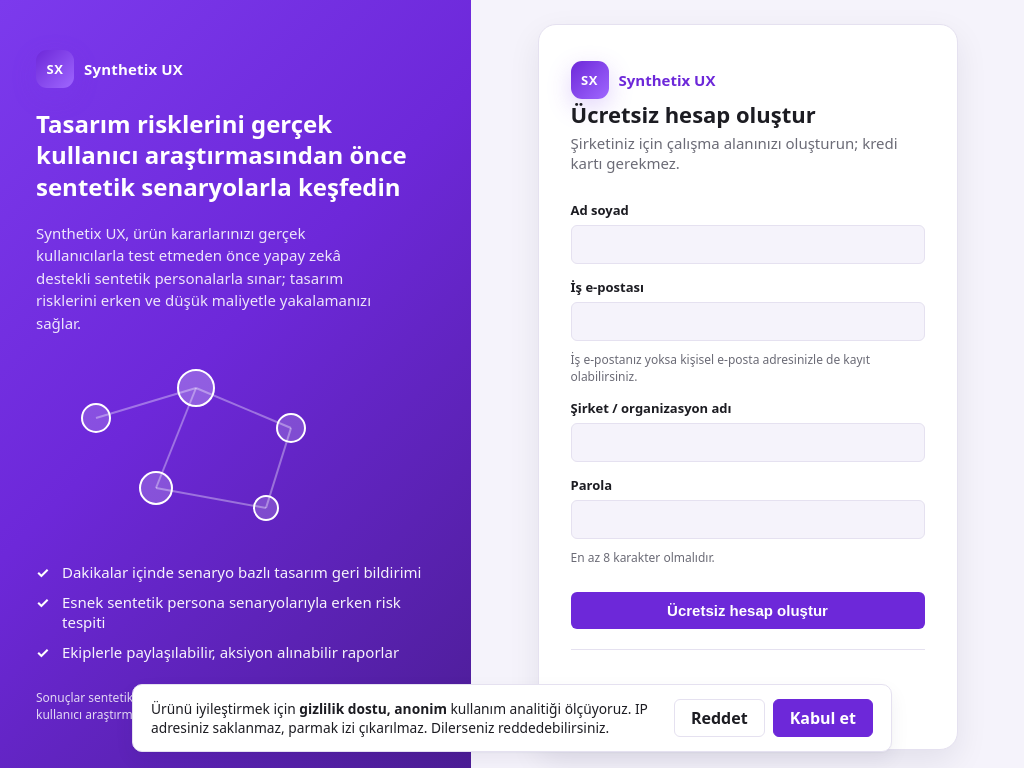
Test: Kimlik dogrulama route guard ve akislari › basarili kayit sonrasi korumali sayfaya (Genel Bakis) yonlendirir
Check: the heading "Ücretsiz hesap oluştur" is shown, box [570,99,816,129]
Type "Test Org" into the field labelled "Şirket / organizasyon adı" at (748, 442), box [570,423,924,462]
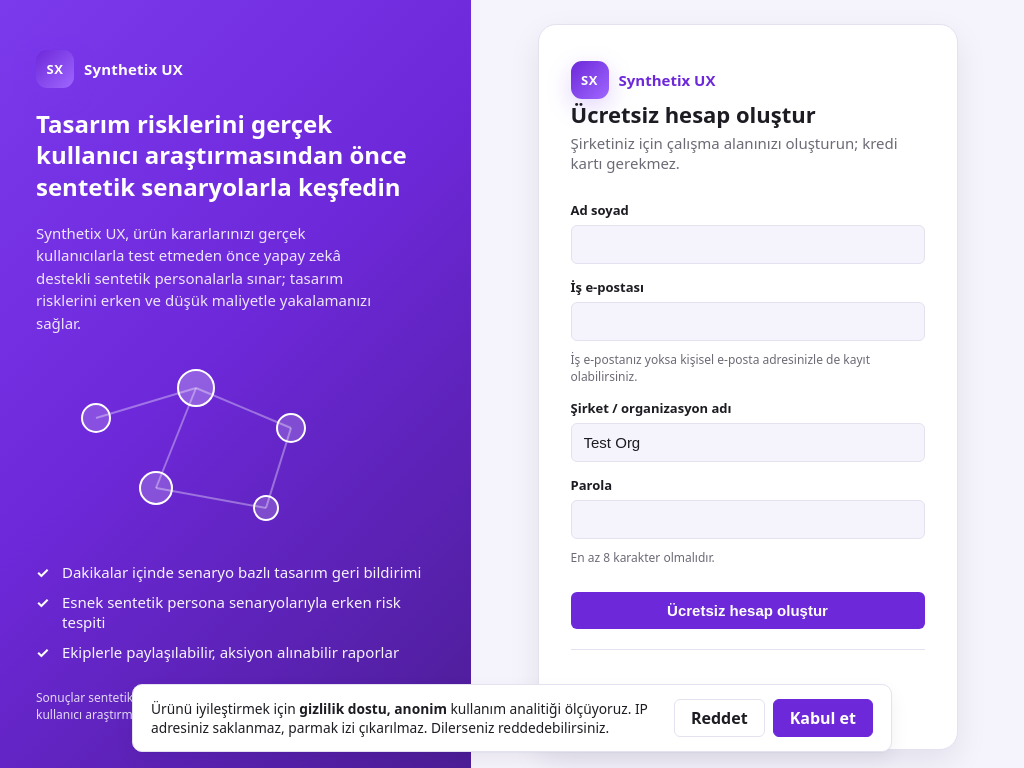
Type "Test User" into the field labelled "Ad soyad" at (748, 244), box [570,225,924,264]
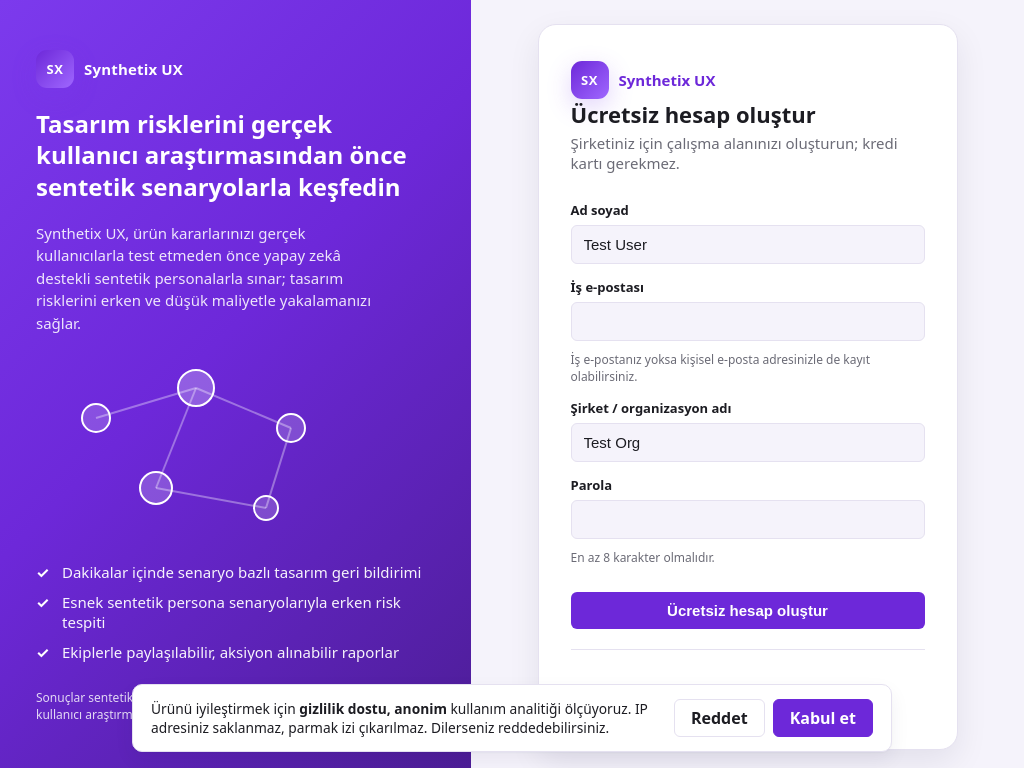
Type "user@example.com" into the field labelled "İş e-postası" at (748, 322), box [570,302,924,341]
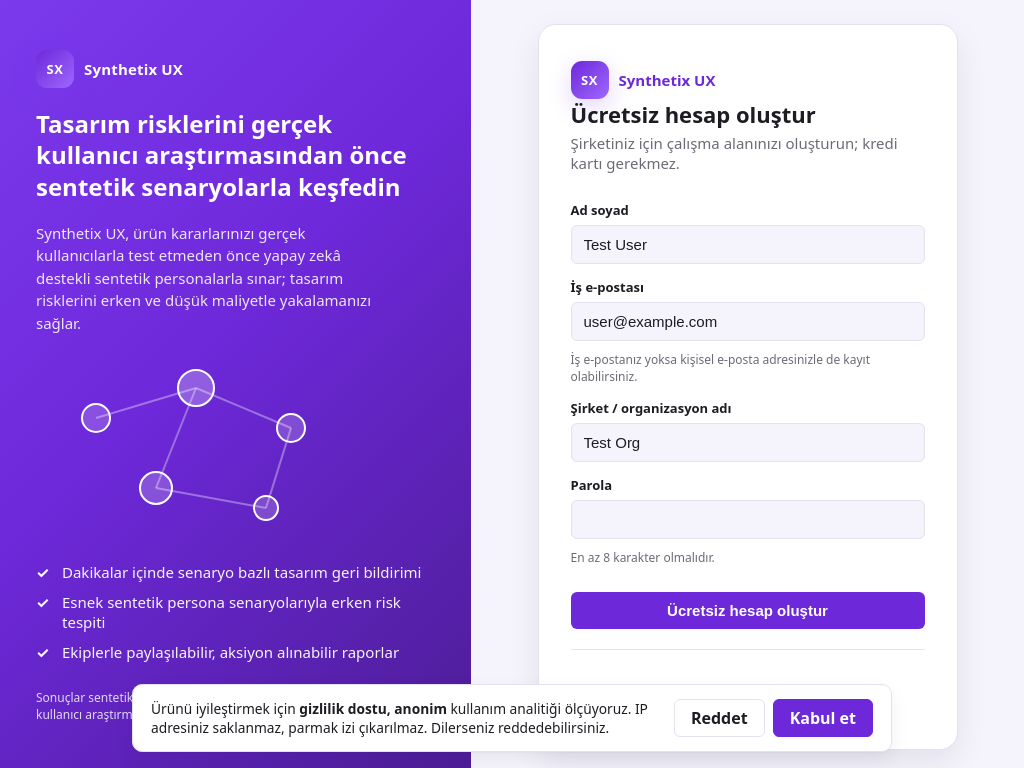
Type "CorrectHorse123!" into the password field labelled "Parola" at (748, 520), box [570,500,924,539]
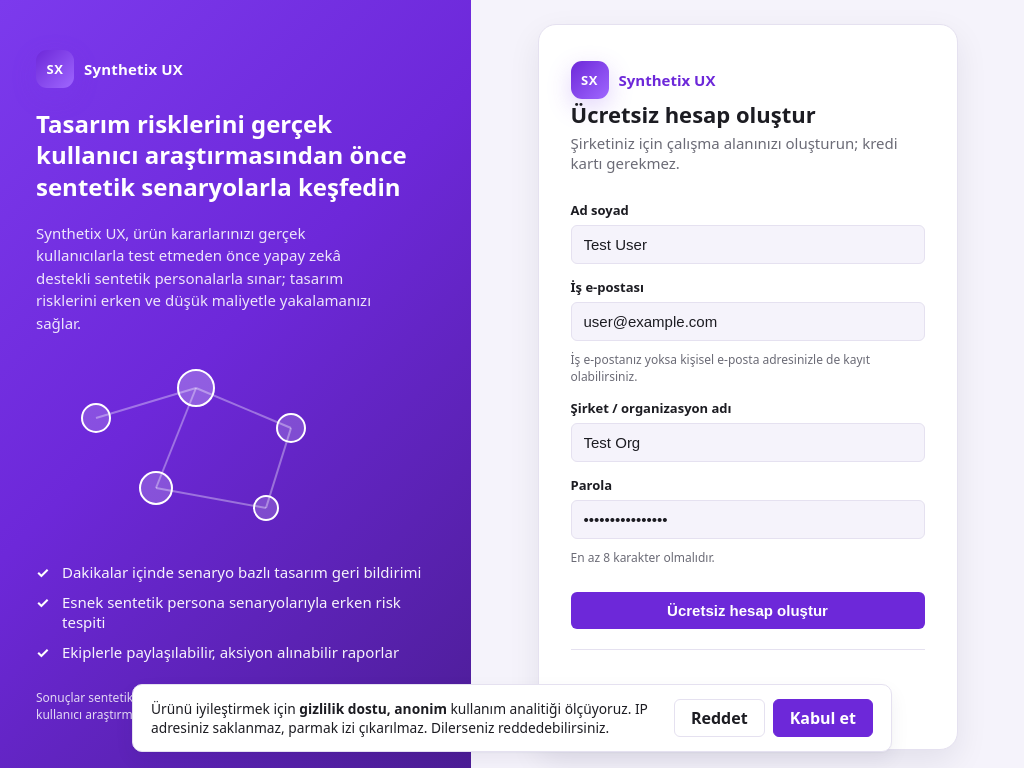
Click the button "Ücretsiz hesap oluştur" at (748, 610), box [570,592,924,629]
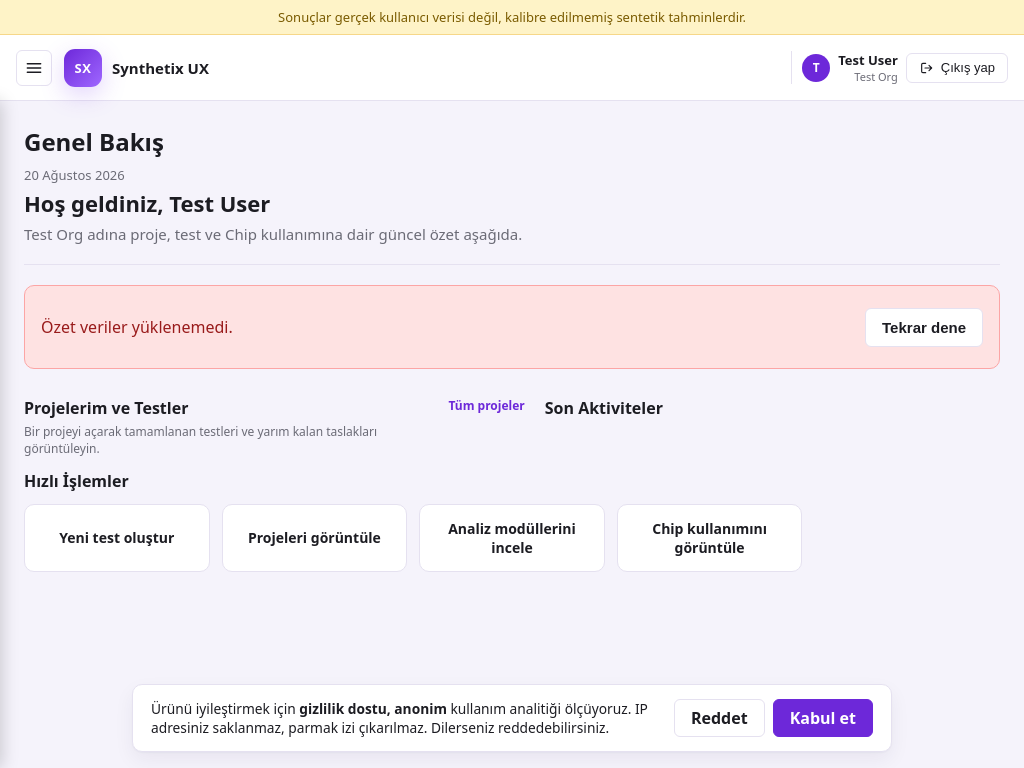
Check: the heading "Genel Bakış" is shown, box [24,125,164,158]
